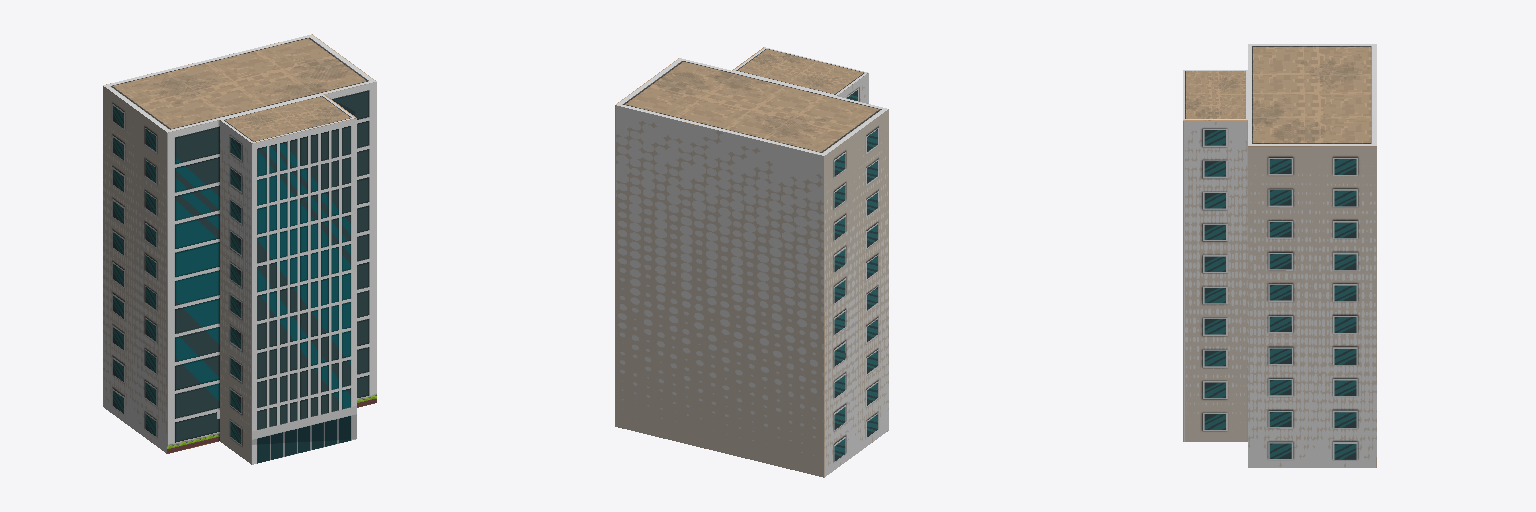
3 views of the same model, side by side, from view 1: azimuth 30°, elevation 25°; view 2: azimuth 150°, elevation 25°; view 3: azimuth 270°, elevation 25° (orthographic).
Parts seen in each view (by area): view 1: building_3; view 2: building_3; view 3: building_3.
Part boxes in pixels (x1,y1,x2,y2): building_3: (103,34,376,464); building_3: (615,47,888,477); building_3: (1183,44,1376,467).
Bounding box in the file's own units: 75 × 110 × 60.
Materials: 1 (1 with a texture image).